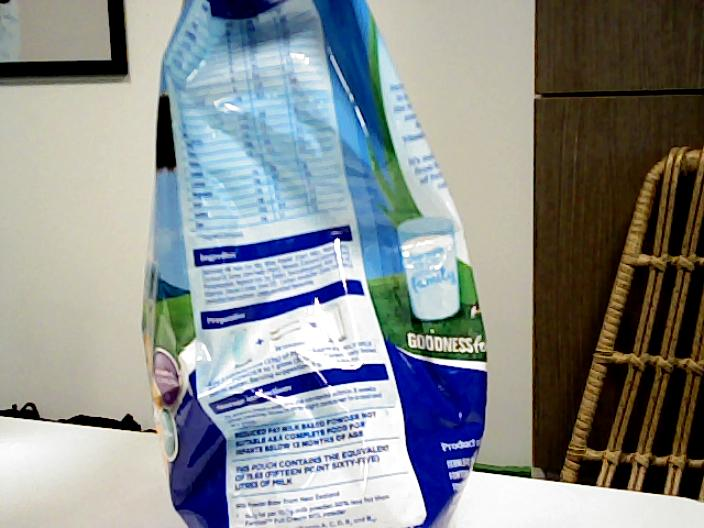Adult_Milk_1000-1999g_Halal_NonHealthy: (139, 1, 490, 528)
